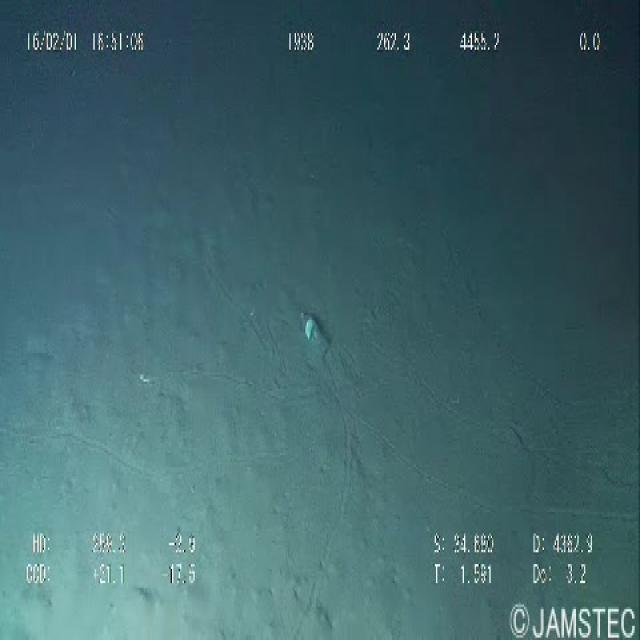plastic: (289, 294, 343, 367)
